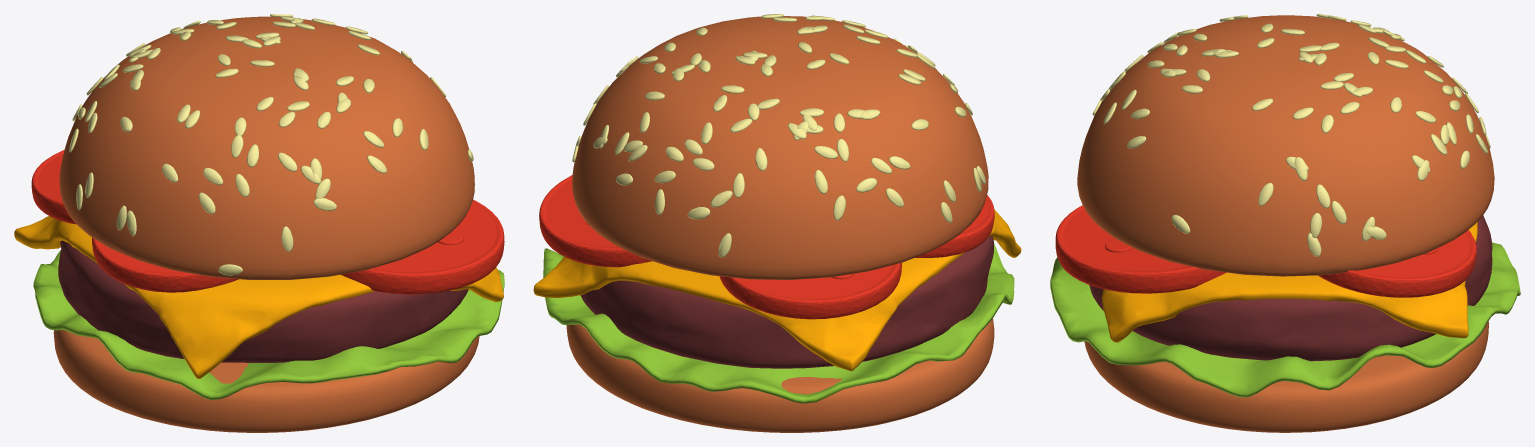
The model's file is burger.glb.
3 renders of one model, left to right at view 1: azimuth 30°, elevation 25°; view 2: azimuth 150°, elevation 25°; view 3: azimuth 270°, elevation 25°, orthographic.
Visible parts, largest first — view 1: burger; view 2: burger; view 3: burger.
Boxes of the visible parts, x1=… form: burger: x1=14, y1=14, x2=504, y2=432; burger: x1=533, y1=14, x2=1021, y2=432; burger: x1=1050, y1=14, x2=1520, y2=432.
Bounding box in the file's own units: 2.71 × 1.9 × 2.73.
4 materials, 4 textured.
